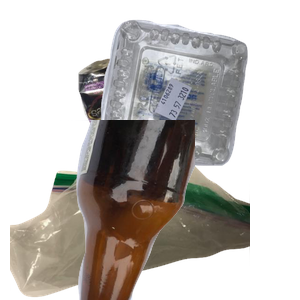glass: (60, 120, 300, 300)
metal: (75, 56, 198, 185)
plastic: (97, 17, 300, 176)
trash: (10, 134, 250, 300)
